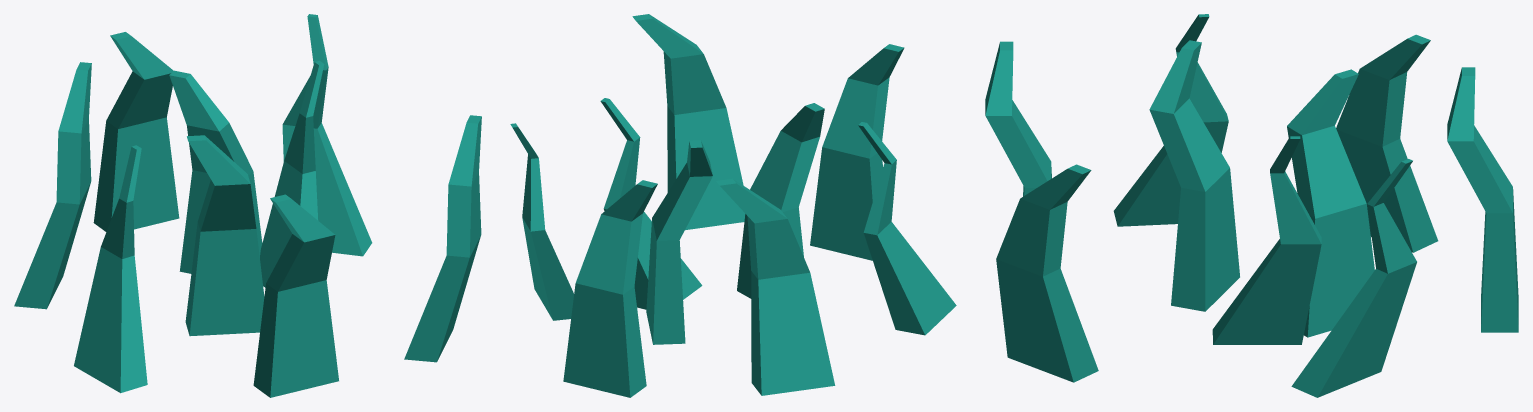
Rendered from grassPatch.fbx.
3 renders of one model, left to right at view 1: azimuth 30°, elevation 25°; view 2: azimuth 150°, elevation 25°; view 3: azimuth 270°, elevation 25°, orthographic. The views are drawn at different scales.
Visible parts, largest first — view 1: pPlane6, pPlane7, pPlane1, pPlane3, pPlane2, pPlane4, pPlane5, pPlane9, pPlane8; view 2: pPlane2, pPlane1, pPlane6, pPlane4, pPlane3, pPlane9, pPlane7, pPlane5, pPlane8; view 3: pPlane4, pPlane7, pPlane9, pPlane2, pPlane5, pPlane8, pPlane1, pPlane3, pPlane6.
Boxes of the visible parts, left/top/right/bottom form: pPlane6: left=253, top=194, right=338, bottom=397; pPlane7: left=185, top=135, right=264, bottom=336; pPlane1: left=93, top=32, right=179, bottom=231; pPlane3: left=74, top=145, right=147, bottom=393; pPlane2: left=14, top=62, right=91, bottom=309; pPlane4: left=404, top=115, right=481, bottom=362; pPlane5: left=282, top=14, right=372, bottom=256; pPlane9: left=169, top=70, right=262, bottom=273; pPlane8: left=260, top=60, right=324, bottom=287; pPlane2: left=716, top=178, right=835, bottom=395; pPlane1: left=563, top=180, right=657, bottom=397; pPlane6: left=810, top=44, right=904, bottom=260; pPlane4: left=632, top=14, right=745, bottom=230; pPlane3: left=858, top=122, right=956, bottom=335; pPlane9: left=646, top=140, right=712, bottom=344; pPlane7: left=737, top=103, right=824, bottom=298; pPlane5: left=510, top=123, right=573, bottom=320; pPlane8: left=600, top=98, right=702, bottom=309; pPlane4: left=996, top=164, right=1098, bottom=382; pPlane7: left=1149, top=40, right=1239, bottom=311; pPlane9: left=1287, top=69, right=1374, bottom=337; pPlane2: left=1336, top=34, right=1438, bottom=252; pPlane5: left=1291, top=159, right=1416, bottom=397; pPlane8: left=1212, top=136, right=1321, bottom=344; pPlane1: left=1447, top=67, right=1518, bottom=332; pPlane3: left=1113, top=14, right=1228, bottom=226; pPlane6: left=985, top=41, right=1051, bottom=196.
Size of the model in its own units: 28.5 by 15.54 by 33.2.
